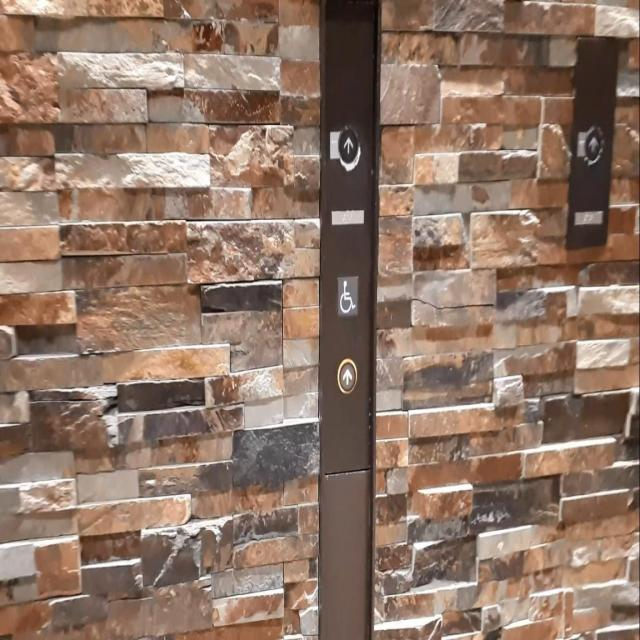CH: (334, 272, 360, 321)
up: (336, 121, 362, 170), (580, 120, 606, 168), (334, 353, 359, 397)
